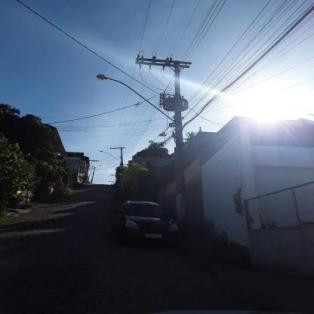Poste: (171, 59, 188, 232)
